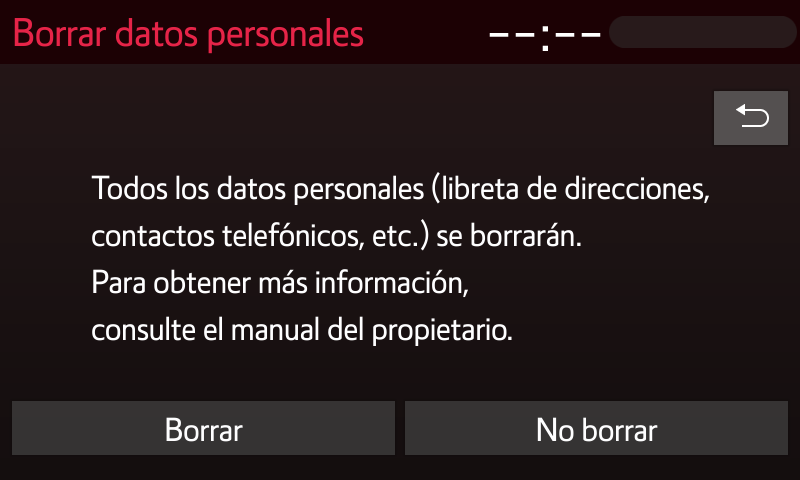touchPart: (399, 395, 793, 460), (8, 397, 400, 460), (712, 83, 794, 155)
untouchPart: (12, 11, 362, 56), (474, 16, 794, 53)
